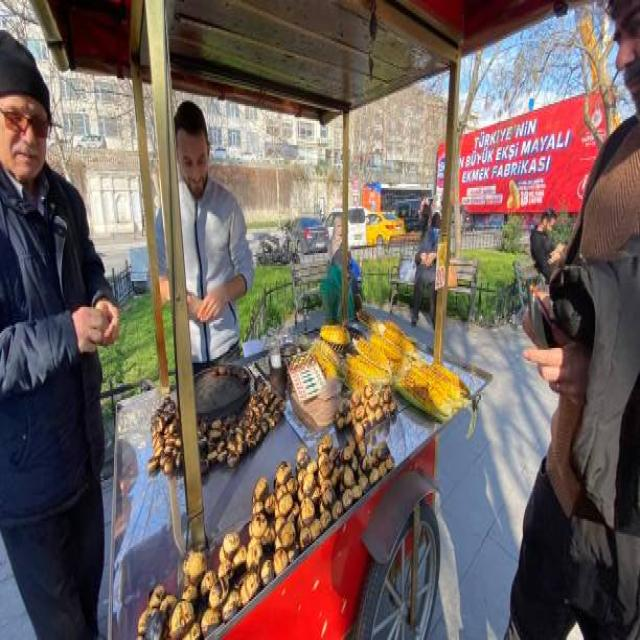Emperan: (35, 0, 591, 640)
